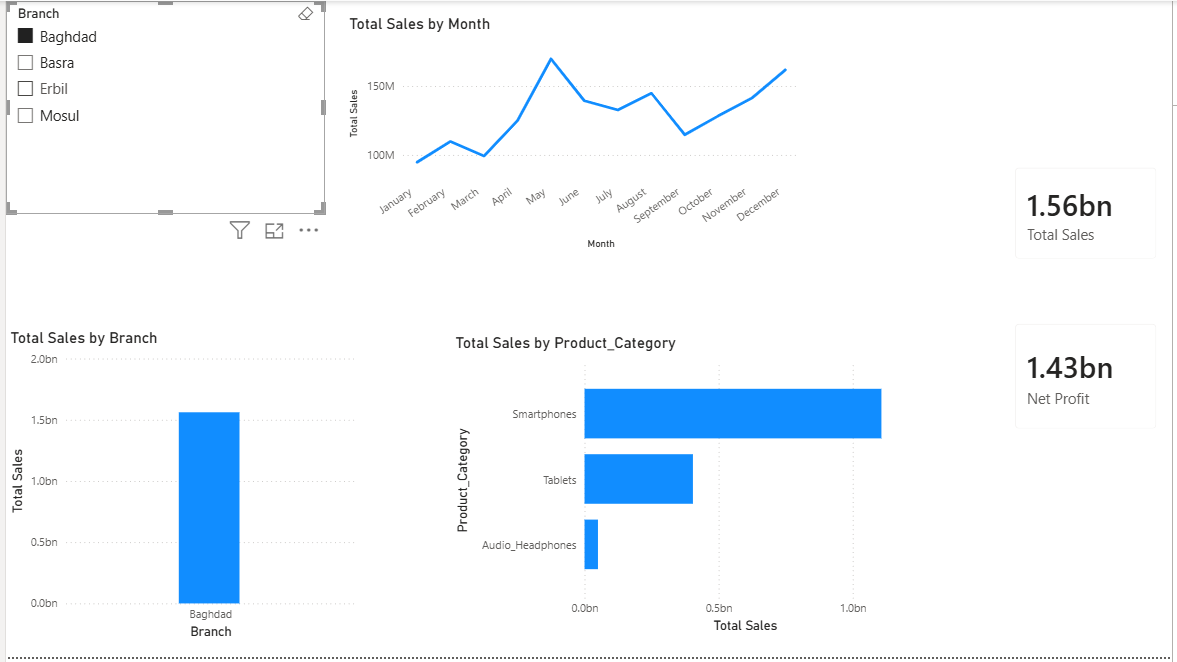

What the dashboard file says about the page in this screenshot:
{"tool":"powerbi","page":{"name":"Page 1","canvas":[1280,720],"ordinal":0},"visuals":[{"type":"cardVisual","fields":{"Data":["Sheet1 (2).Total Sales"]},"box":[1090.9,166,189.4,134.5],"z":0},{"type":"cardVisual","fields":{"Data":["Sheet1 (2).Net Profit"]},"box":[1090.9,337.6,189.4,149.6],"z":1},{"type":"clusteredColumnChart","fields":{"Category":["Sheet1 (2).Branch"],"Y":["Sheet1 (2).Total Sales"]},"box":[0,359.5,388.3,345.8],"z":2},{"type":"clusteredBarChart","fields":{"Category":["Sheet1 (2).Product_Category"],"Y":["Sheet1 (2).Total Sales"]},"box":[488.5,365,520.1,333.4],"z":3},{"type":"lineChart","fields":{"Category":["Sheet1 (2).Sales_Date.Variation.Date Hierarchy.Year","Sheet1 (2).Sales_Date.Variation.Date Hierarchy.Quarter","Sheet1 (2).Sales_Date.Variation.Date Hierarchy.Month","Sheet1 (2).Sales_Date.Variation.Date Hierarchy.Day"],"Y":["Sheet1 (2).Total Sales"]},"box":[371.9,15.1,503.6,262.1],"z":4},{"type":"slicer","fields":{"Values":["Sheet1 (2).Branch"]},"box":[0,0,349.9,233.3],"z":5}]}

Visuals, with their boxes in screenshot pixels (x1, y1, x2, y2), scaled from the page's 1280x720 canvas onto the 1177x662 screenshot:
cardVisual - Sheet1 (2).Total Sales: 1003 153 1176 276
cardVisual - Sheet1 (2).Net Profit: 1003 310 1176 448
clusteredColumnChart - Sheet1 (2).Branch x Sheet1 (2).Total Sales: 0 331 357 648
clusteredBarChart - Sheet1 (2).Product_Category x Sheet1 (2).Total Sales: 449 336 927 642
lineChart - Sheet1 (2).Sales_Date.Variation.Date Hierarchy.Year x Sheet1 (2).Sales_Date.Variation.Date Hierarchy.Quarter: 342 14 805 255
slicer - Sheet1 (2).Branch: 0 0 322 215
